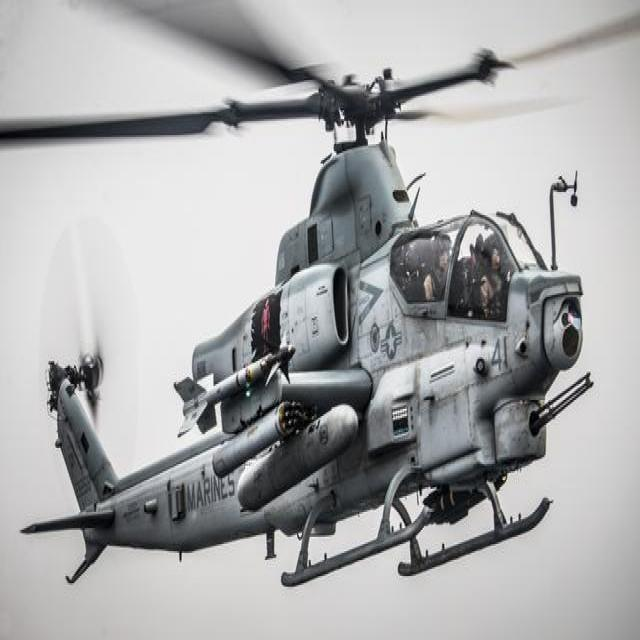MIL_HELO: (4, 0, 640, 605)
